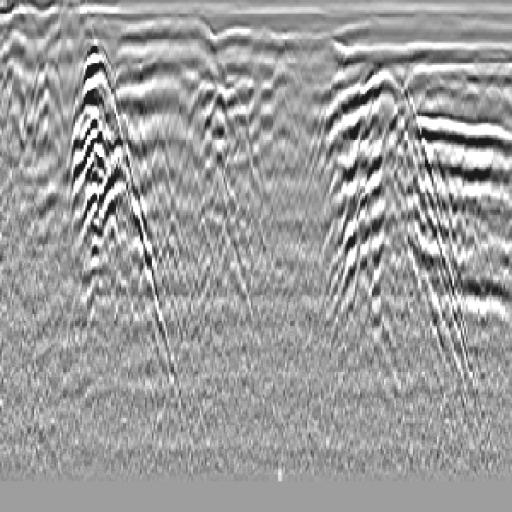metalic: (80, 131, 190, 387), (64, 36, 132, 340)
non-metallic: (316, 52, 462, 398)
